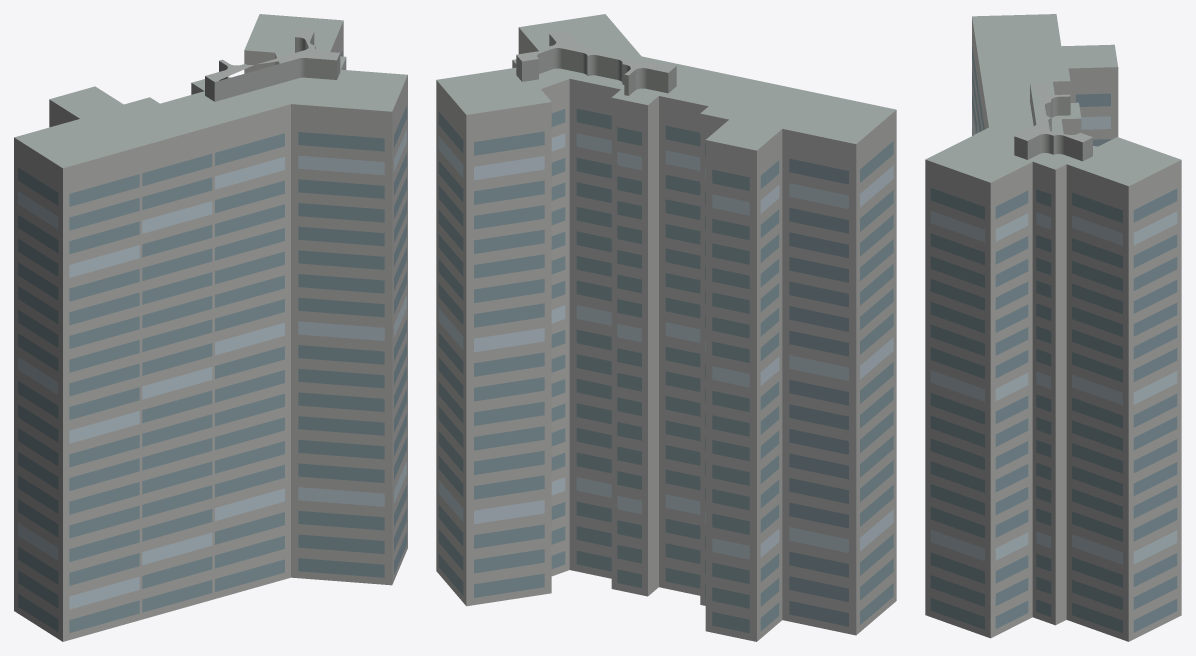
File: fallback-godeok-arteon-308.glb
3 views of the same model, side by side, from view 1: azimuth 30°, elevation 25°; view 2: azimuth 150°, elevation 25°; view 3: azimuth 270°, elevation 25° (orthographic). The views are drawn at different scales.
Parts seen in each view (by area): view 1: fallback-godeok-arteon-308; view 2: fallback-godeok-arteon-308; view 3: fallback-godeok-arteon-308.
Boxes of the visible parts, <box> form: fallback-godeok-arteon-308: <box>14,14,407,641</box>; fallback-godeok-arteon-308: <box>436,14,896,641</box>; fallback-godeok-arteon-308: <box>925,14,1181,641</box>.
Bounding box in the file's own units: 46.73 × 60 × 29.39.
